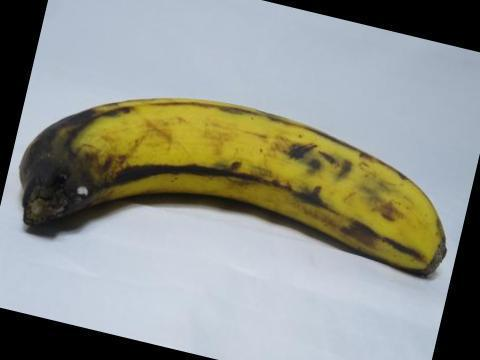overripe: (11, 74, 458, 288)
rotten: (3, 97, 170, 233)
